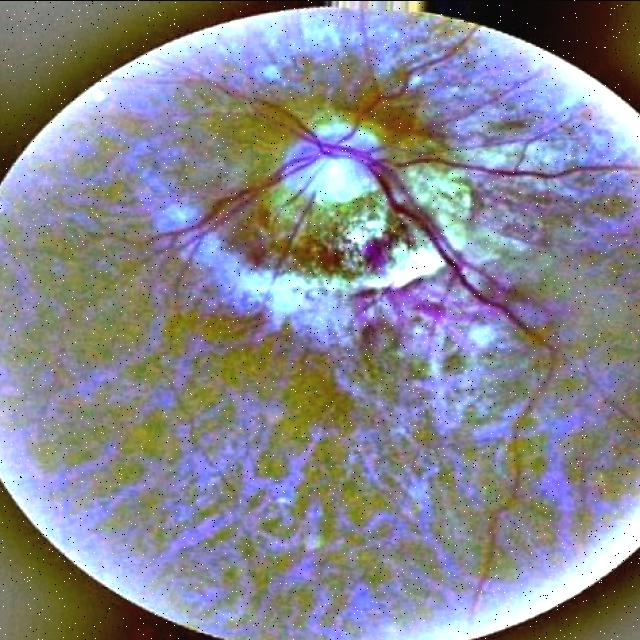Nerves: (335, 146, 557, 352), (115, 148, 324, 240), (378, 153, 640, 179), (247, 92, 336, 154)
Optic Disk: (277, 128, 376, 201)
